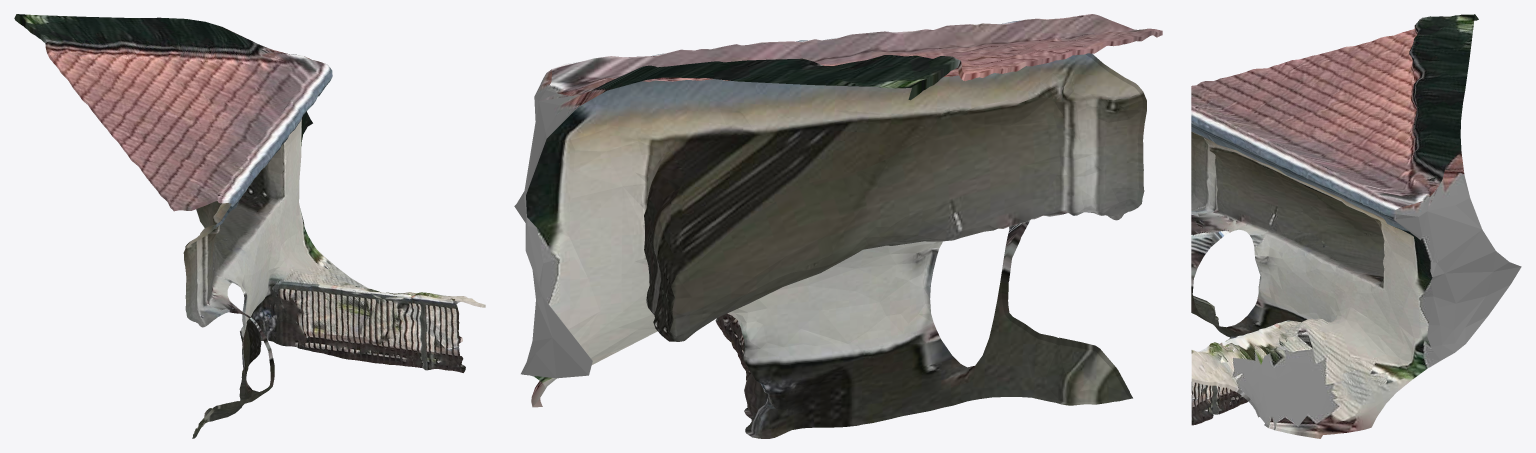
The picture shows the model from 3 angles, left to right: view 1: azimuth 30°, elevation 25°; view 2: azimuth 150°, elevation 25°; view 3: azimuth 270°, elevation 25°; orthographic projection. The views are drawn at different scales.
Visible parts, largest first — view 1: node_164; view 2: node_164; view 3: node_164.
Part boxes in pixels (left/top/right/bottom): node_164: left=14, top=14, right=485, bottom=438; node_164: left=514, top=14, right=1162, bottom=438; node_164: left=1191, top=14, right=1521, bottom=438.
Bounding box in the file's own units: 8.99 × 8.78 × 9.14.
Materials: 1 (1 with a texture image).
